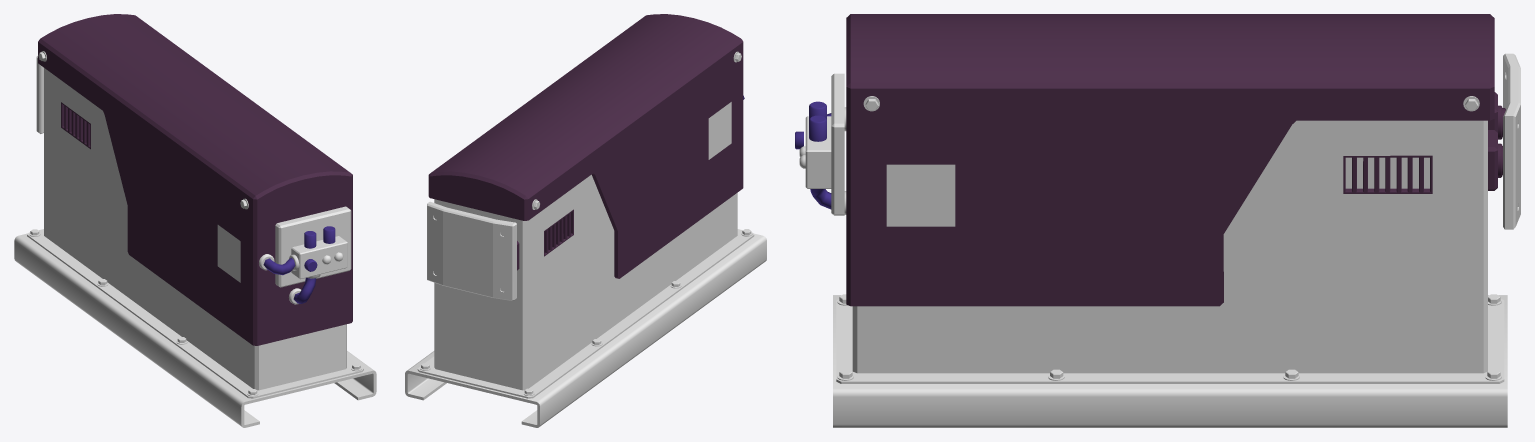
File: ConvPusher.fbx
3 views of the same model, side by side, from view 1: azimuth 30°, elevation 25°; view 2: azimuth 150°, elevation 25°; view 3: azimuth 270°, elevation 25° (orthographic). The views are drawn at different scales.
Visible parts, largest first — view 1: Pusher, partEnd; view 2: Pusher, partEnd; view 3: Pusher, partEnd.
Boxes of the visible parts, x1=… form: Pusher: x1=14, y1=14, x2=376, y2=427; partEnd: x1=36, y1=56, x2=43, y2=133; Pusher: x1=405, y1=14, x2=766, y2=427; partEnd: x1=427, y1=201, x2=516, y2=300; Pusher: x1=795, y1=14, x2=1507, y2=427; partEnd: x1=1503, y1=53, x2=1520, y2=229.
Bounding box in the file's own units: 72.96 × 120 × 228.
